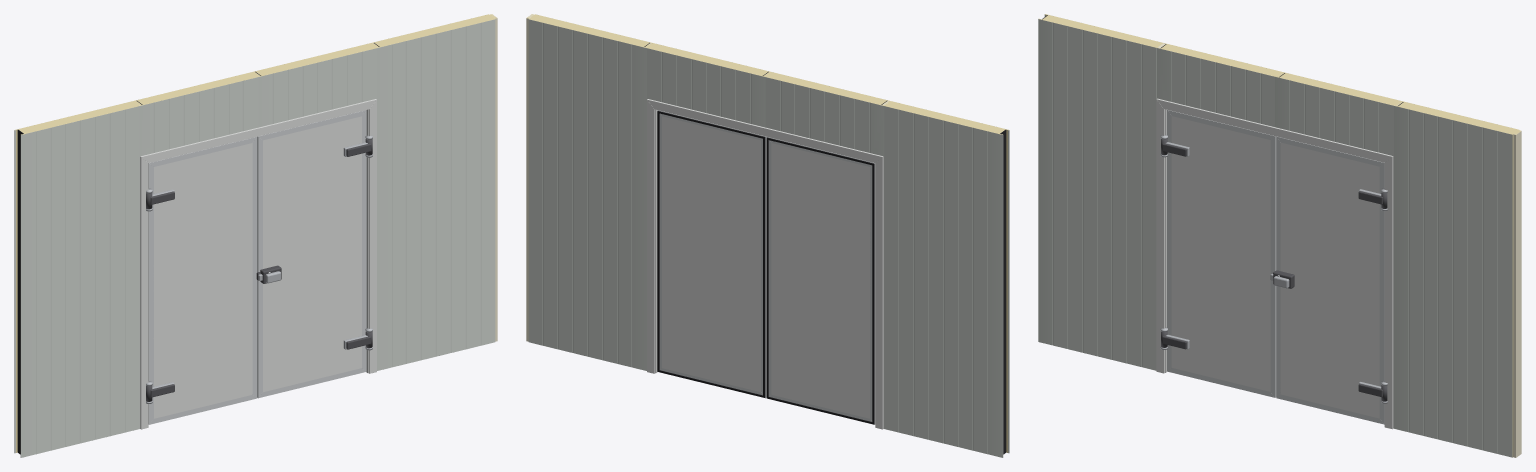
File: double-6x7.glb
3 views of the same model, side by side, from view 1: azimuth 30°, elevation 25°; view 2: azimuth 150°, elevation 25°; view 3: azimuth 330°, elevation 25° (orthographic).
Visible parts, largest first — view 1: Wall_p0_Steel_top, Wall_p3_Steel_top, SkinF.001, SkinF, Wall_p1_Steel_top, Wall_p2_Steel_top, TrimF_L, TrimF_R, TrimF_T, Wall_p0_PIR_core, Wall_p0_Gasket, AluF_R.001 (+14 smaller); view 2: Wall_p0_Steel_bottom, Wall_p3_Steel_bottom, SkinB.001, SkinB, Wall_p1_Steel_bottom, Wall_p2_Steel_bottom, TrimB_L, TrimB_R, TrimB_T, Wall_p0_PIR_core, Wall_p0_Gasket, AluB_L.001 (+15 smaller); view 3: Wall_p3_Steel_top, Wall_p0_Steel_top, SkinF.001, SkinF, Wall_p2_Steel_top, Wall_p1_Steel_top, Wall_p3_Tongue_tape, TrimF_R, TrimF_L, TrimF_T, Wall_p3_PIR_core, AluF_R.001 (+11 smaller).
Part boxes in pixels (left/top/right/bottom): Wall_p0_Steel_top: left=20, top=106, right=139, bottom=457; Wall_p3_Steel_top: left=377, top=19, right=495, bottom=370; SkinF.001: left=153, top=143, right=252, bottom=418; SkinF: left=263, top=116, right=361, bottom=392; Wall_p1_Steel_top: left=139, top=77, right=258, bottom=428; Wall_p2_Steel_top: left=258, top=48, right=376, bottom=127; TrimF_L: left=140, top=157, right=148, bottom=429; TrimF_R: left=368, top=100, right=376, bottom=373; TrimF_T: left=140, top=99, right=376, bottom=162; Wall_p0_PIR_core: left=14, top=101, right=141, bottom=452; Wall_p0_Gasket: left=17, top=129, right=23, bottom=454; AluF_R.001: left=252, top=138, right=257, bottom=397; Wall_p0_Steel_bottom: left=884, top=106, right=1003, bottom=457; Wall_p3_Steel_bottom: left=528, top=19, right=646, bottom=370; SkinB.001: left=771, top=143, right=870, bottom=418; SkinB: left=662, top=116, right=760, bottom=391; Wall_p1_Steel_bottom: left=765, top=77, right=884, bottom=428; Wall_p2_Steel_bottom: left=647, top=48, right=765, bottom=127; TrimB_L: left=875, top=157, right=883, bottom=429; TrimB_R: left=647, top=100, right=655, bottom=373; TrimB_T: left=647, top=99, right=883, bottom=162; Wall_p0_PIR_core: left=883, top=101, right=1009, bottom=452; Wall_p0_Gasket: left=1000, top=129, right=1006, bottom=454; AluB_L.001: left=870, top=164, right=874, bottom=423; Wall_p3_Steel_top: left=1394, top=105, right=1512, bottom=457; Wall_p0_Steel_top: left=1038, top=19, right=1156, bottom=370; SkinF.001: left=1171, top=116, right=1270, bottom=391; SkinF: left=1280, top=142, right=1379, bottom=418; Wall_p2_Steel_top: left=1275, top=77, right=1393, bottom=428; Wall_p1_Steel_top: left=1157, top=48, right=1275, bottom=126; Wall_p3_Tongue_tape: left=1513, top=131, right=1521, bottom=457; TrimF_R: left=1384, top=156, right=1393, bottom=429; TrimF_L: left=1156, top=99, right=1164, bottom=373; TrimF_T: left=1156, top=98, right=1392, bottom=162; Wall_p3_PIR_core: left=1394, top=101, right=1520, bottom=457; AluF_R.001: left=1270, top=136, right=1275, bottom=397.
Size of the model in its own units: 4.02 by 2.6 by 0.196.
